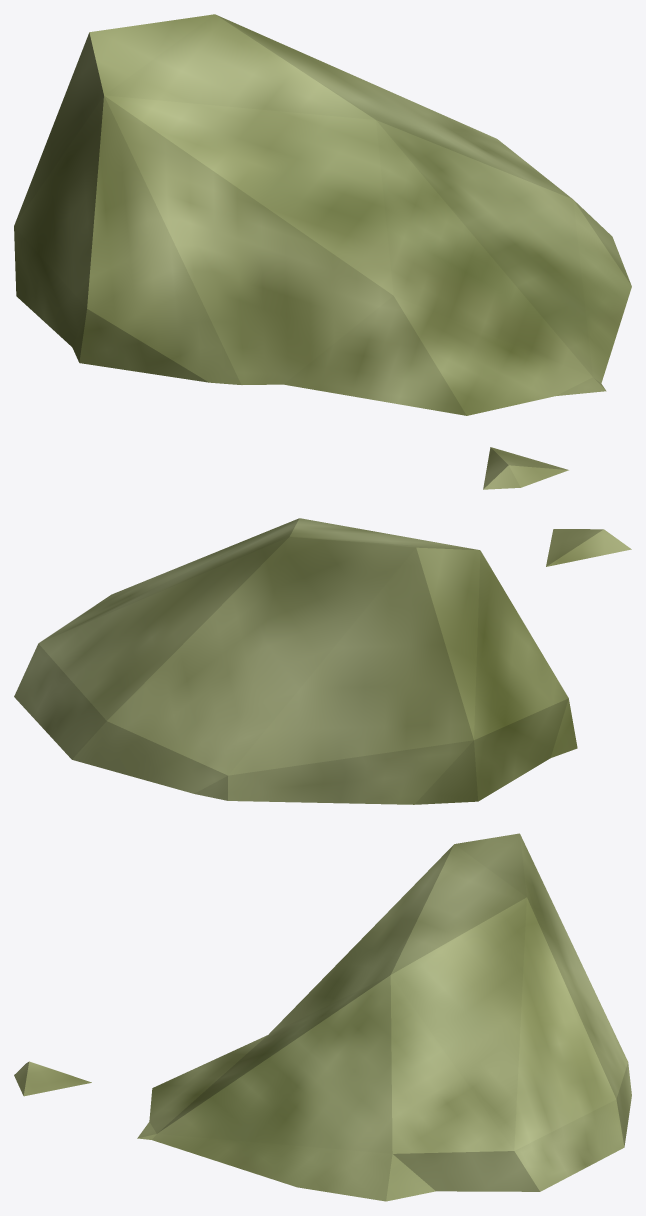
3 renders of one model, top to bottom at view 1: azimuth 30°, elevation 25°; view 2: azimuth 150°, elevation 25°; view 3: azimuth 270°, elevation 25°, orthographic. The views are drawn at different scales.
Bounding box in the file's own units: 0.6044 × 0.2725 × 0.7701.
Materials: 1 (1 with a texture image).
